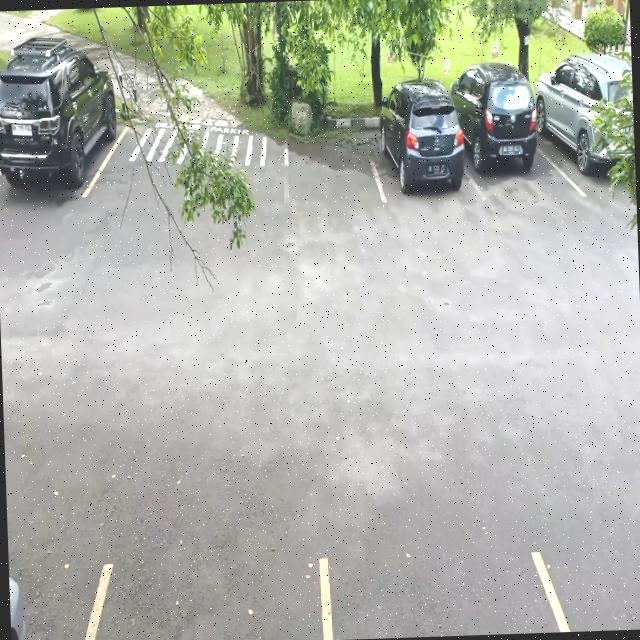empty: (280, 116, 384, 209)
occupied: (0, 65, 119, 200), (372, 86, 473, 201), (462, 79, 556, 200)
